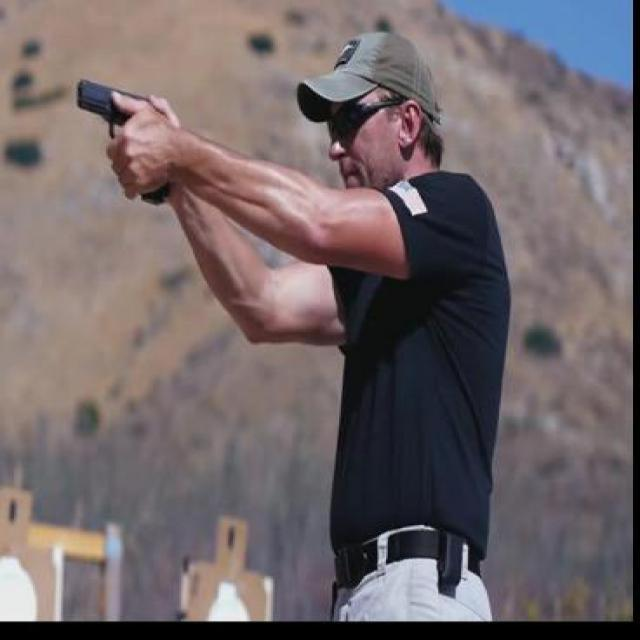weapon: (75, 80, 174, 208)
